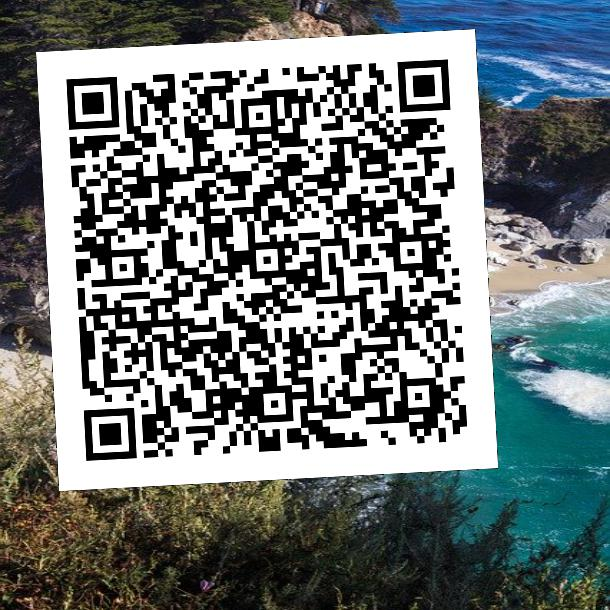qr_code: (36, 29, 497, 490)
